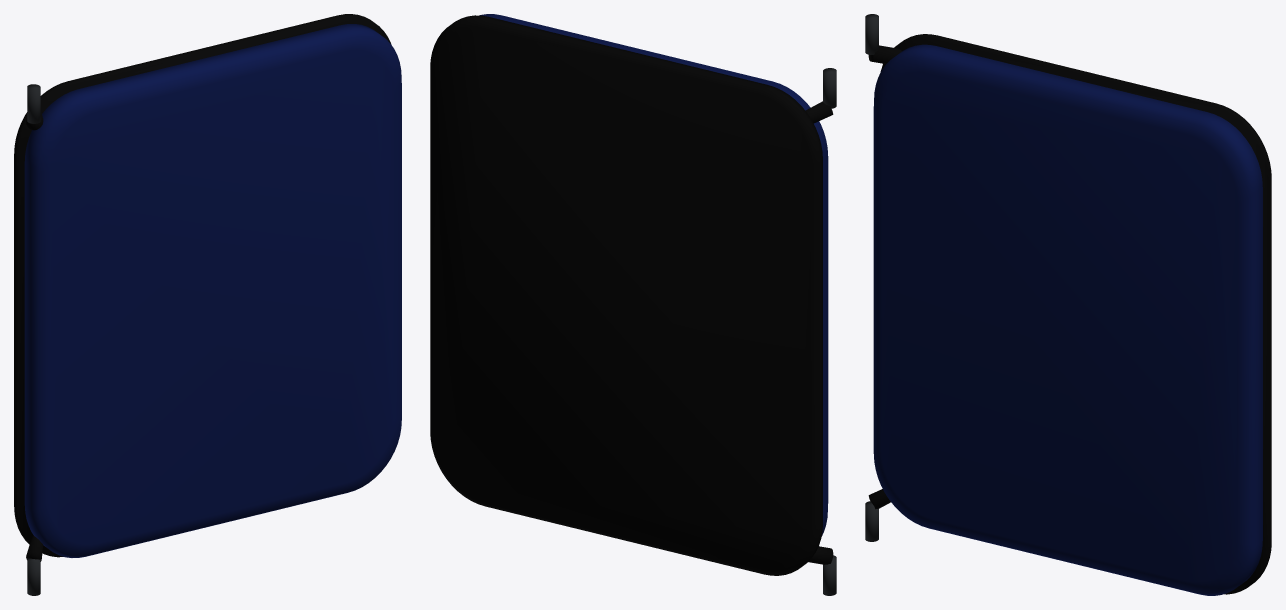
3 views of the same model, side by side, from view 1: azimuth 30°, elevation 25°; view 2: azimuth 150°, elevation 25°; view 3: azimuth 330°, elevation 25° (orthographic). The views are drawn at different scales.
Visible parts, largest first — view 1: __articraft_commit_0001_0000, __articraft_commit_0001_0001, __articraft_commit_0001_0003, __articraft_commit_0001_0002; view 2: __articraft_commit_0001_0001, __articraft_commit_0001_0000, __articraft_commit_0001_0003; view 3: __articraft_commit_0001_0000, __articraft_commit_0001_0001, __articraft_commit_0001_0003.
Boxes of the visible parts, x1,y1,x2,y2 form: __articraft_commit_0001_0000: (24,24,401,557); __articraft_commit_0001_0001: (14,14,391,561); __articraft_commit_0001_0003: (27,84,40,123); __articraft_commit_0001_0002: (27,558,40,595); __articraft_commit_0001_0001: (430,15,833,575); __articraft_commit_0001_0000: (479,14,828,536); __articraft_commit_0001_0003: (823,68,836,108); __articraft_commit_0001_0000: (873,44,1262,595); __articraft_commit_0001_0001: (868,34,1271,594); __articraft_commit_0001_0003: (865,14,878,54).
Bounding box in the file's own units: 0.3631 × 0.464 × 0.036.
